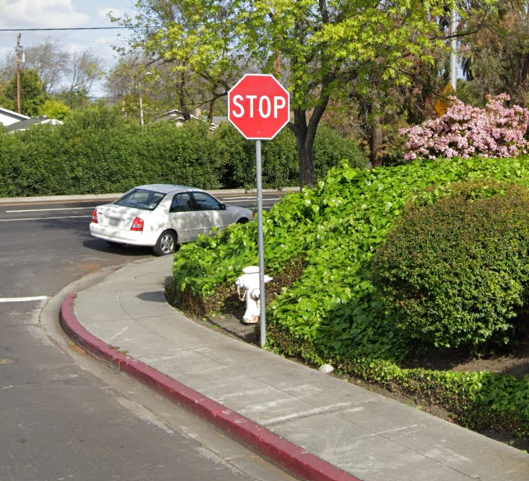stop_sign: (229, 74, 291, 139)
